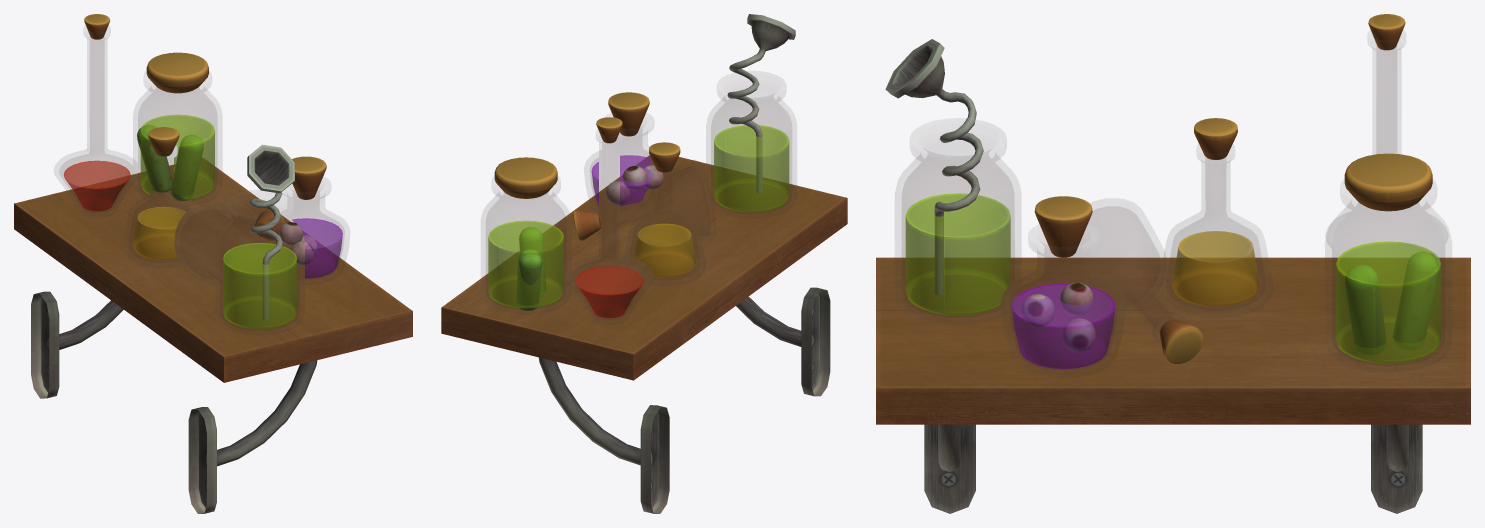
3 views of the same model, side by side, from view 1: azimuth 30°, elevation 25°; view 2: azimuth 150°, elevation 25°; view 3: azimuth 270°, elevation 25° (orthographic). The views are drawn at different scales.
Parts seen in each view (by area): view 1: Shelf_low, Circle.006, Circle.001, CircularThing_low, Flask1_low, Flask4_low.001, Flask4_low, Circle.005, Flask2_low.001, Circle.004, Corg_low, Circle.003 (+9 smaller); view 2: Shelf_low, Circle.006, Circle.001, Flask1_low, Flask4_low, CircularThing_low, Circle.004, Flask4_low.001, Circle.005, Flask2_low.001, Corg_low, Flask2_low (+10 smaller); view 3: Shelf_low, Circle.001, Circle.006, Circle.003, Flask2_low.001, Circle.004, Flask4_low, CircularThing_low, Flask4_low.001, Corg_low, Flask2_low, Pickle_low (+10 smaller).
Part boxes in pixels (<box>): Shelf_low: <box>14,158,412,513</box>; Circle.006: <box>223,243,297,328</box>; Circle.001: <box>140,114,214,199</box>; CircularThing_low: <box>247,144,294,319</box>; Flask1_low: <box>56,30,139,213</box>; Flask4_low.001: <box>220,210,299,330</box>; Flask4_low: <box>138,85,217,201</box>; Circle.005: <box>64,160,130,211</box>; Flask2_low.001: <box>180,209,229,279</box>; Circle.004: <box>133,206,186,259</box>; Corg_low: <box>146,52,208,93</box>; Circle.003: <box>292,218,342,278</box>; Shelf_low: <box>441,155,847,513</box>; Circle.006: <box>714,125,789,212</box>; Circle.001: <box>488,220,563,308</box>; Flask1_low: <box>570,133,652,320</box>; Flask4_low: <box>485,190,566,310</box>; CircularThing_low: <box>727,14,795,193</box>; Circle.004: <box>634,223,695,277</box>; Flask4_low.001: <box>711,92,792,214</box>; Circle.005: <box>575,266,643,318</box>; Flask2_low.001: <box>591,165,710,236</box>; Corg_low: <box>494,157,557,198</box>; Flask2_low: <box>629,166,700,280</box>; Shelf_low: <box>876,257,1470,513</box>; Circle.001: <box>1336,241,1441,363</box>; Circle.006: <box>905,193,1010,315</box>; Circle.003: <box>1012,283,1115,368</box>; Flask2_low.001: <box>1088,206,1178,334</box>; Circle.004: <box>1172,231,1259,306</box>; Flask4_low: <box>1332,198,1445,366</box>; CircularThing_low: <box>885,39,983,294</box>; Flask4_low.001: <box>901,147,1014,317</box>; Corg_low: <box>1344,153,1432,211</box>; Flask2_low: <box>1165,149,1266,310</box>; Pickle_low: <box>1393,251,1439,349</box>.
Size of the model in its own units: 486 by 908 by 936.
3 materials, 3 textured.
